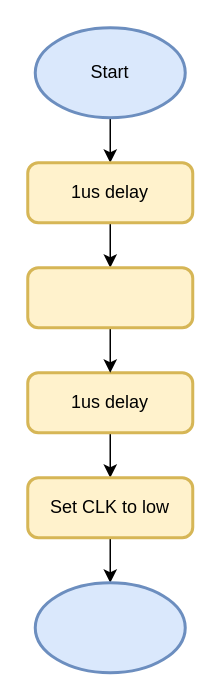
Some shapes in this 219 by 699 pixel diagram are drawn without their labels. Here are the shapes that lost their labels. From the top down, the centre of each, then its label:
point (110, 297): Set CLK to high
point (109, 627): End
